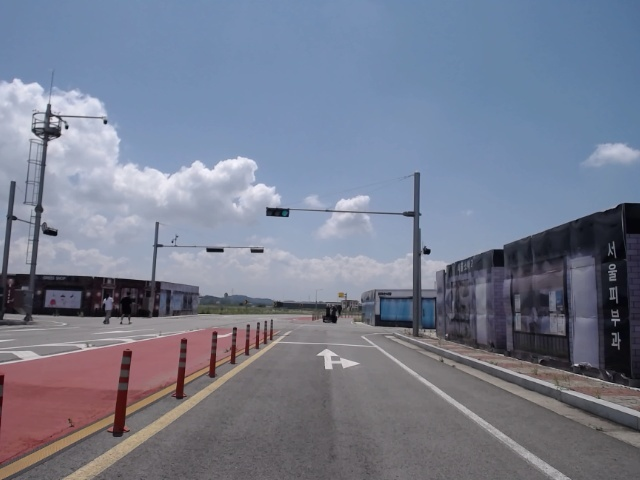green_3: (266, 209, 291, 216)
